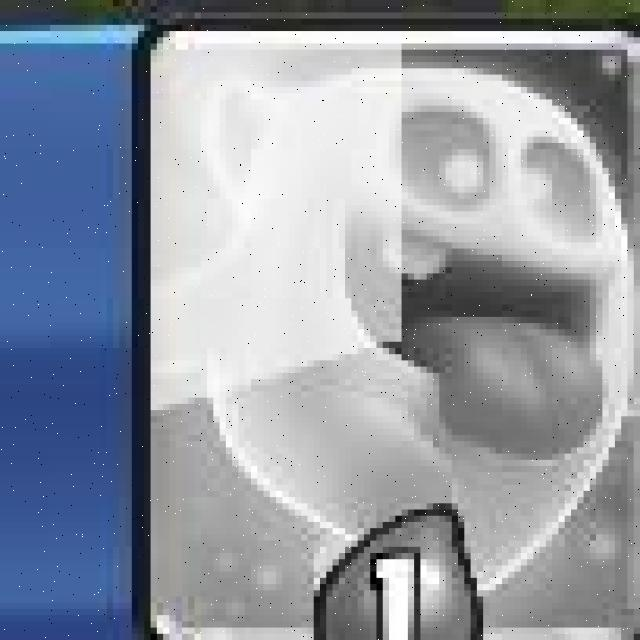Heal_Spirit: (130, 18, 640, 638)
